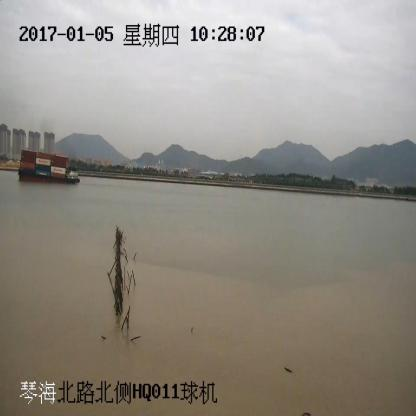Container Ship: (17, 149, 80, 185)
